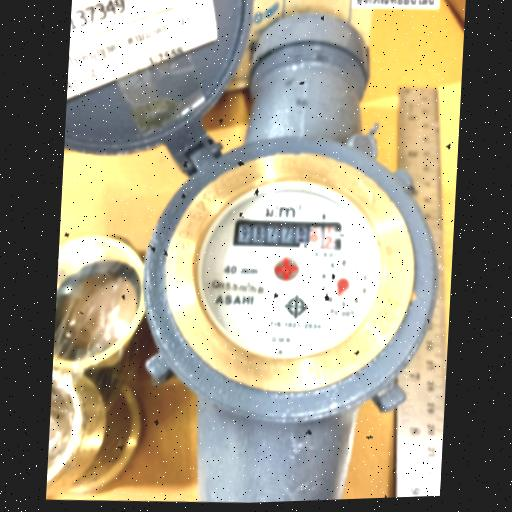2: (324, 227, 335, 249)
6: (310, 225, 322, 244), (296, 225, 307, 244)
7: (281, 224, 294, 244), (267, 224, 279, 244)
8: (254, 224, 266, 243)
9: (238, 224, 251, 243)
border_water_meter_number: (234, 215, 343, 254)
